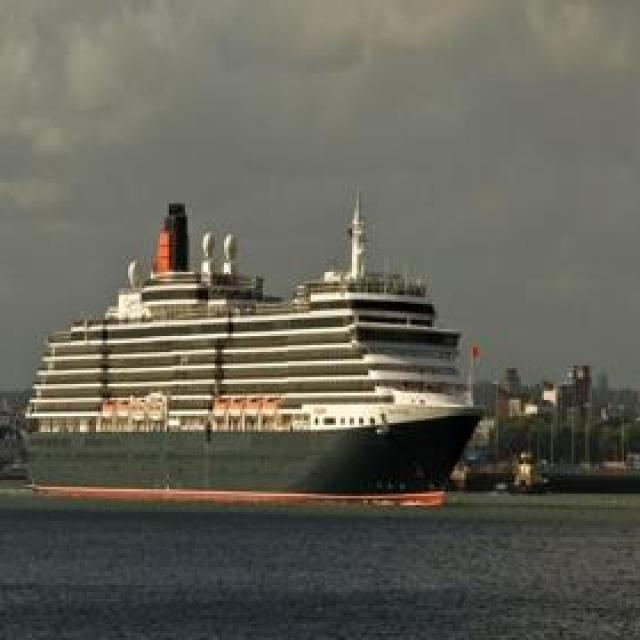houseboat: (19, 204, 494, 508)
